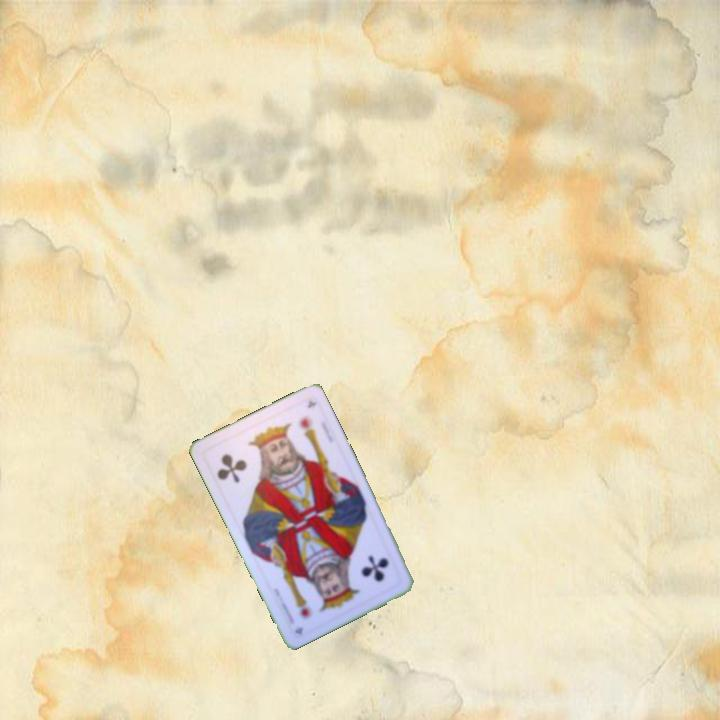c_k.png: (323, 531, 407, 611), (200, 421, 284, 501)
